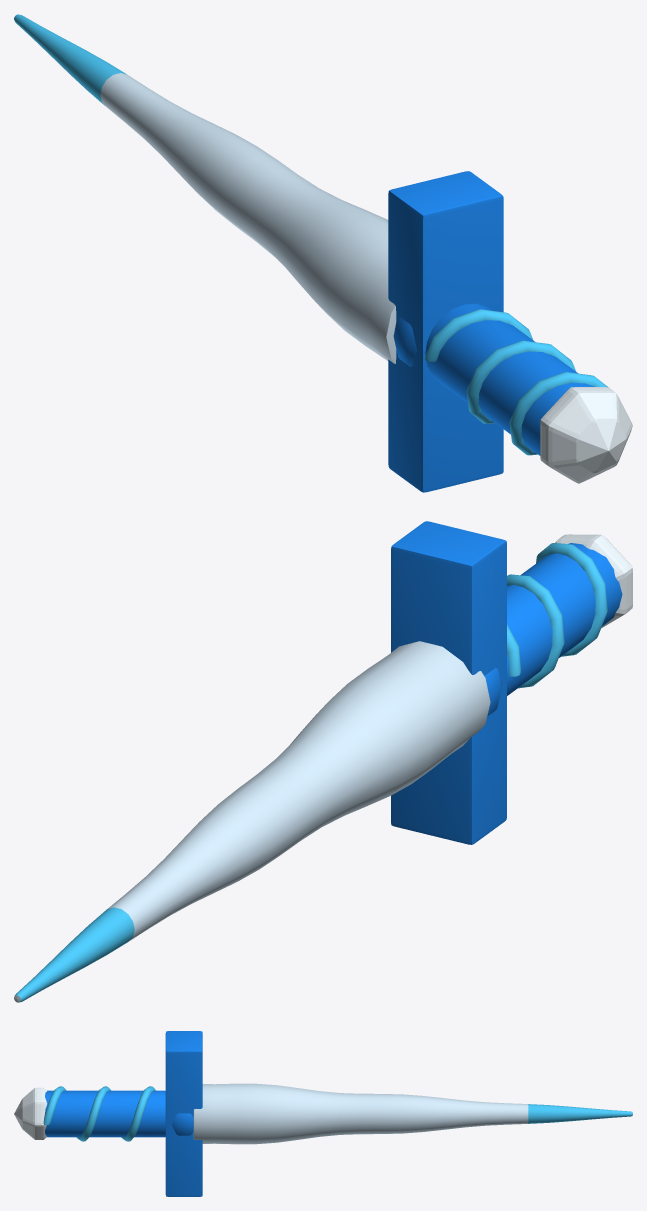
The model's file is Sword_IcicleShiv.glb.
The picture shows the model from 3 angles, top to bottom: view 1: azimuth 30°, elevation 25°; view 2: azimuth 150°, elevation 25°; view 3: azimuth 270°, elevation 25°; orthographic projection. The views are drawn at different scales.
Visible parts, largest first — view 1: Sword_IcicleShiv; view 2: Sword_IcicleShiv; view 3: Sword_IcicleShiv.
Part boxes in pixels (bbox=[...]): Sword_IcicleShiv: bbox=[14, 14, 632, 492]; Sword_IcicleShiv: bbox=[14, 521, 632, 1002]; Sword_IcicleShiv: bbox=[14, 1031, 632, 1196].
Bounding box in the file's own units: 0.1002 × 0.26 × 1.
1 material, 1 textured.
